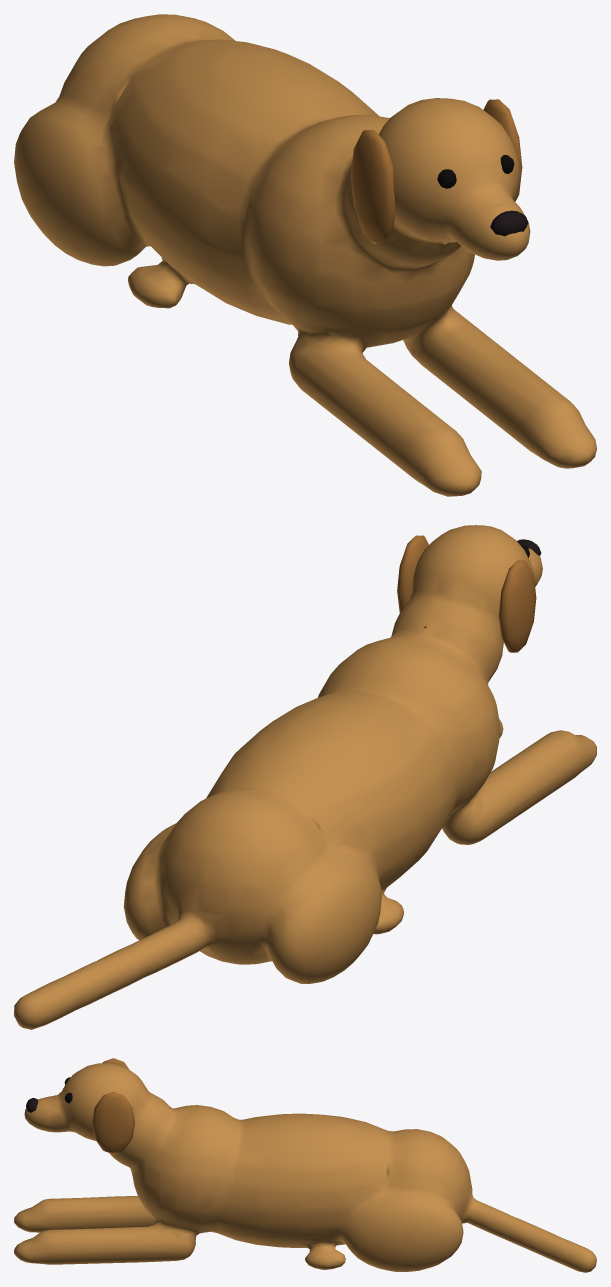
File: mq-porchdog.glb
The picture shows the model from 3 angles, top to bottom: view 1: azimuth 30°, elevation 25°; view 2: azimuth 150°, elevation 25°; view 3: azimuth 270°, elevation 25°; orthographic projection. The views are drawn at different scales.
Parts seen in each view (by area): view 1: pet_body, pet_ears, pet_nose; view 2: pet_body, pet_ears; view 3: pet_body, pet_ears.
Boxes of the visible parts, x1=… form: pet_body: x1=14, y1=14, x2=596, y2=496; pet_ears: x1=350, y1=99, x2=522, y2=243; pet_nose: x1=490, y1=210, x2=528, y2=236; pet_body: x1=14, y1=525, x2=596, y2=1029; pet_ears: x1=397, y1=535, x2=536, y2=652; pet_body: x1=14, y1=1063, x2=596, y2=1272; pet_ears: x1=92, y1=1058, x2=134, y2=1154.
Size of the model in its own units: 0.3899 by 0.4609 by 1.35.
